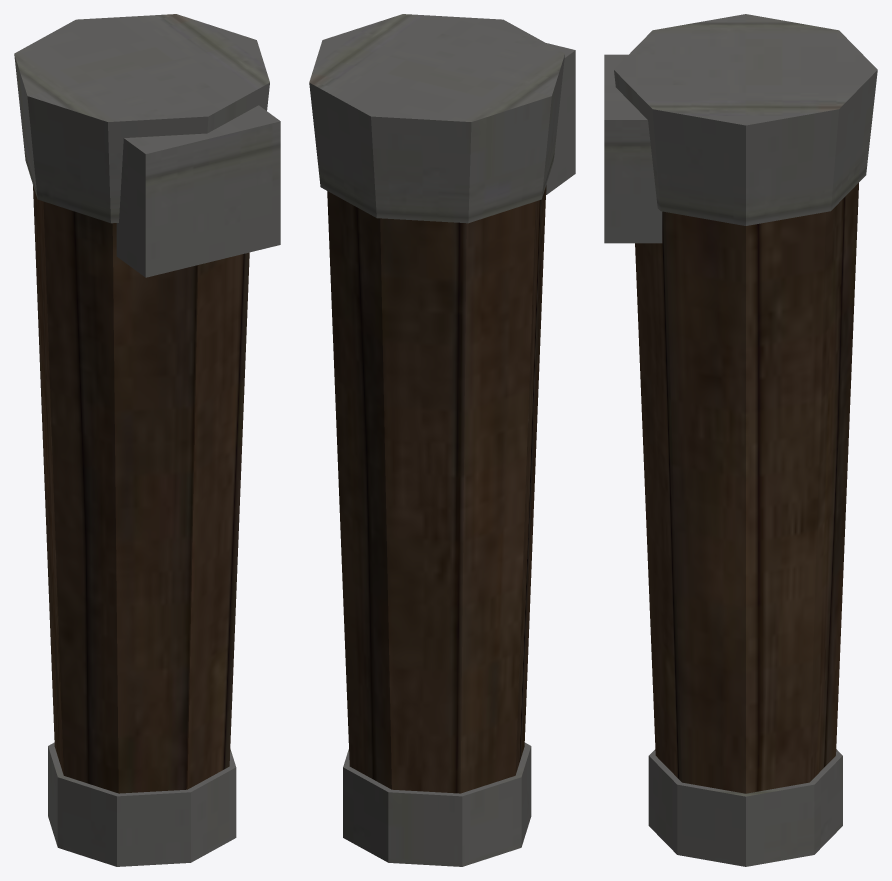
Rendered from eq_past_1_leg.glb.
3 renders of one model, left to right at view 1: azimuth 30°, elevation 25°; view 2: azimuth 150°, elevation 25°; view 3: azimuth 270°, elevation 25°, orthographic.
Parts seen in each view (by area): view 1: eq_past_1_leg; view 2: eq_past_1_leg; view 3: eq_past_1_leg.
Part boxes in pixels (x1,y1,x2,y2): eq_past_1_leg: (14,14,280,866); eq_past_1_leg: (309,14,575,866); eq_past_1_leg: (604,14,877,866).
Size of the model in its own units: 0.136 by 0.43 by 0.141.
2 materials, 2 textured.
